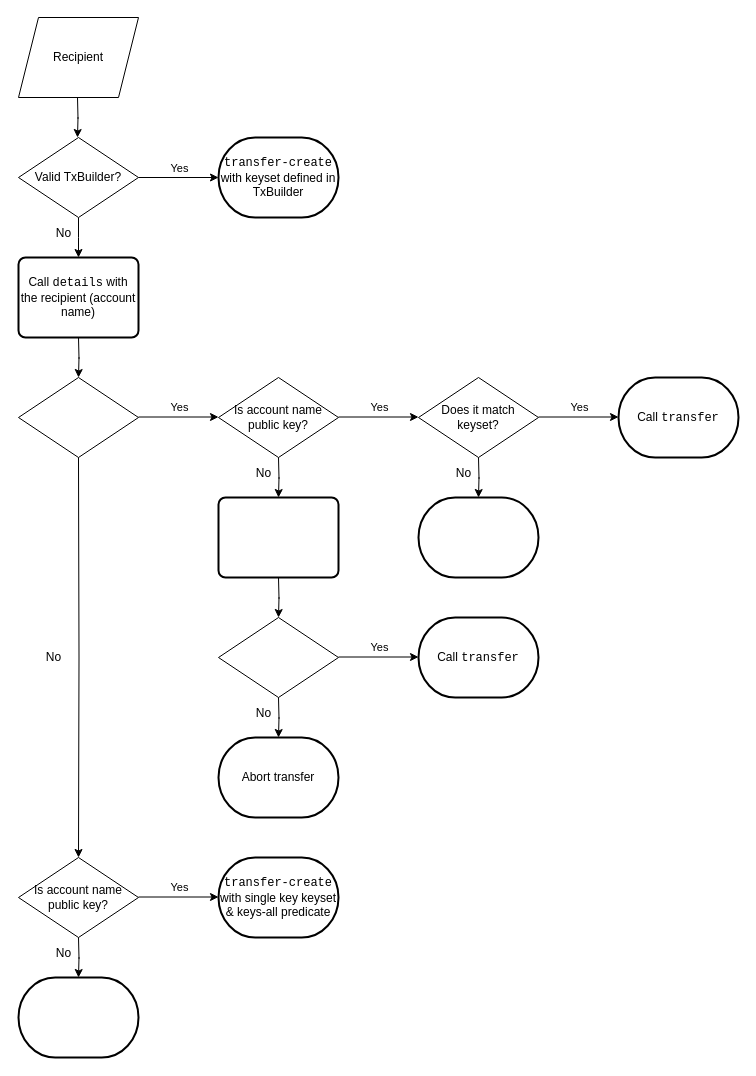
Some shapes in this 756 by 1076 pixel diagram are drawn without their labels. Each missing label, with the centre of its shape:
"Account exists?" belongs at point 78,417.
"Alert user" belongs at point 478,537.
"Optional: Show user the keyset and ask for confirmation" belongs at point 278,537.
"Show error and abort transfer" belongs at point 78,1017.
"User confirms?" belongs at point 278,657.
